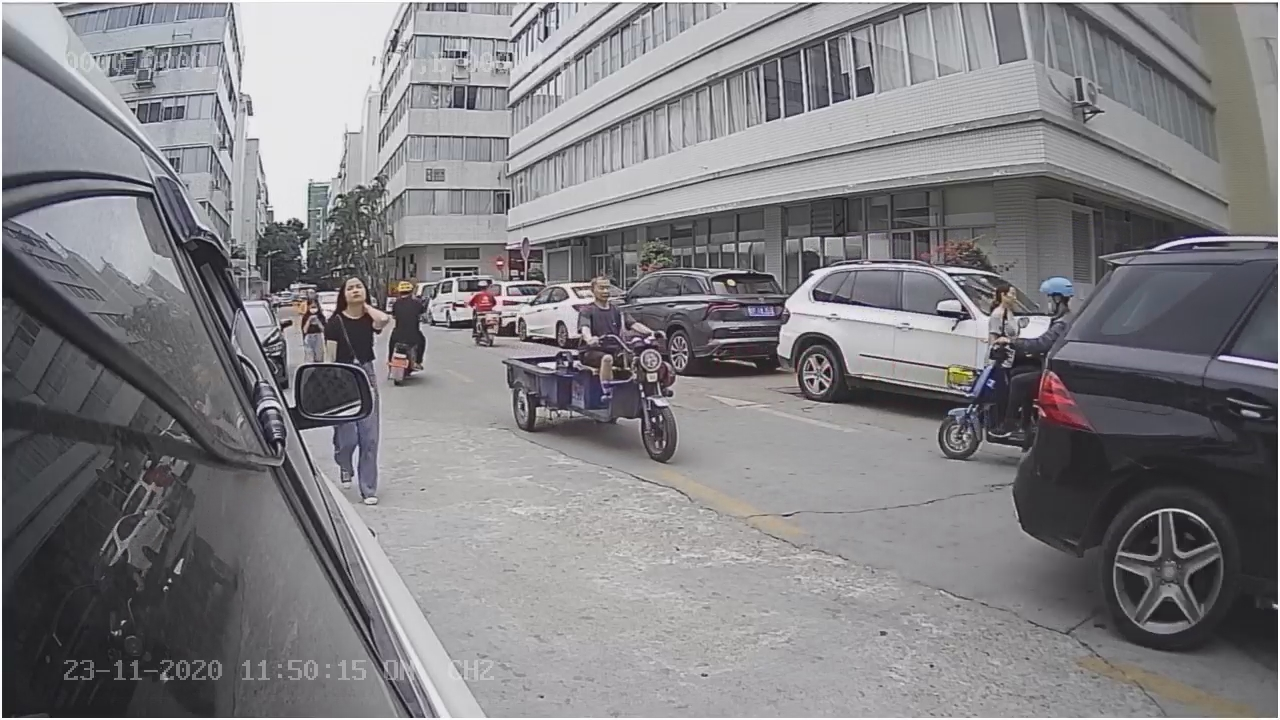person: (313, 270, 399, 355)
